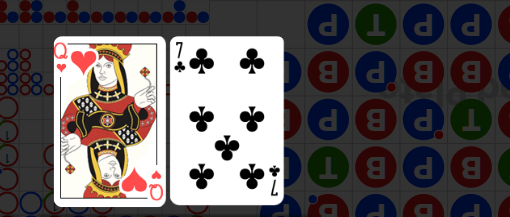7C: (173, 41, 188, 75)
